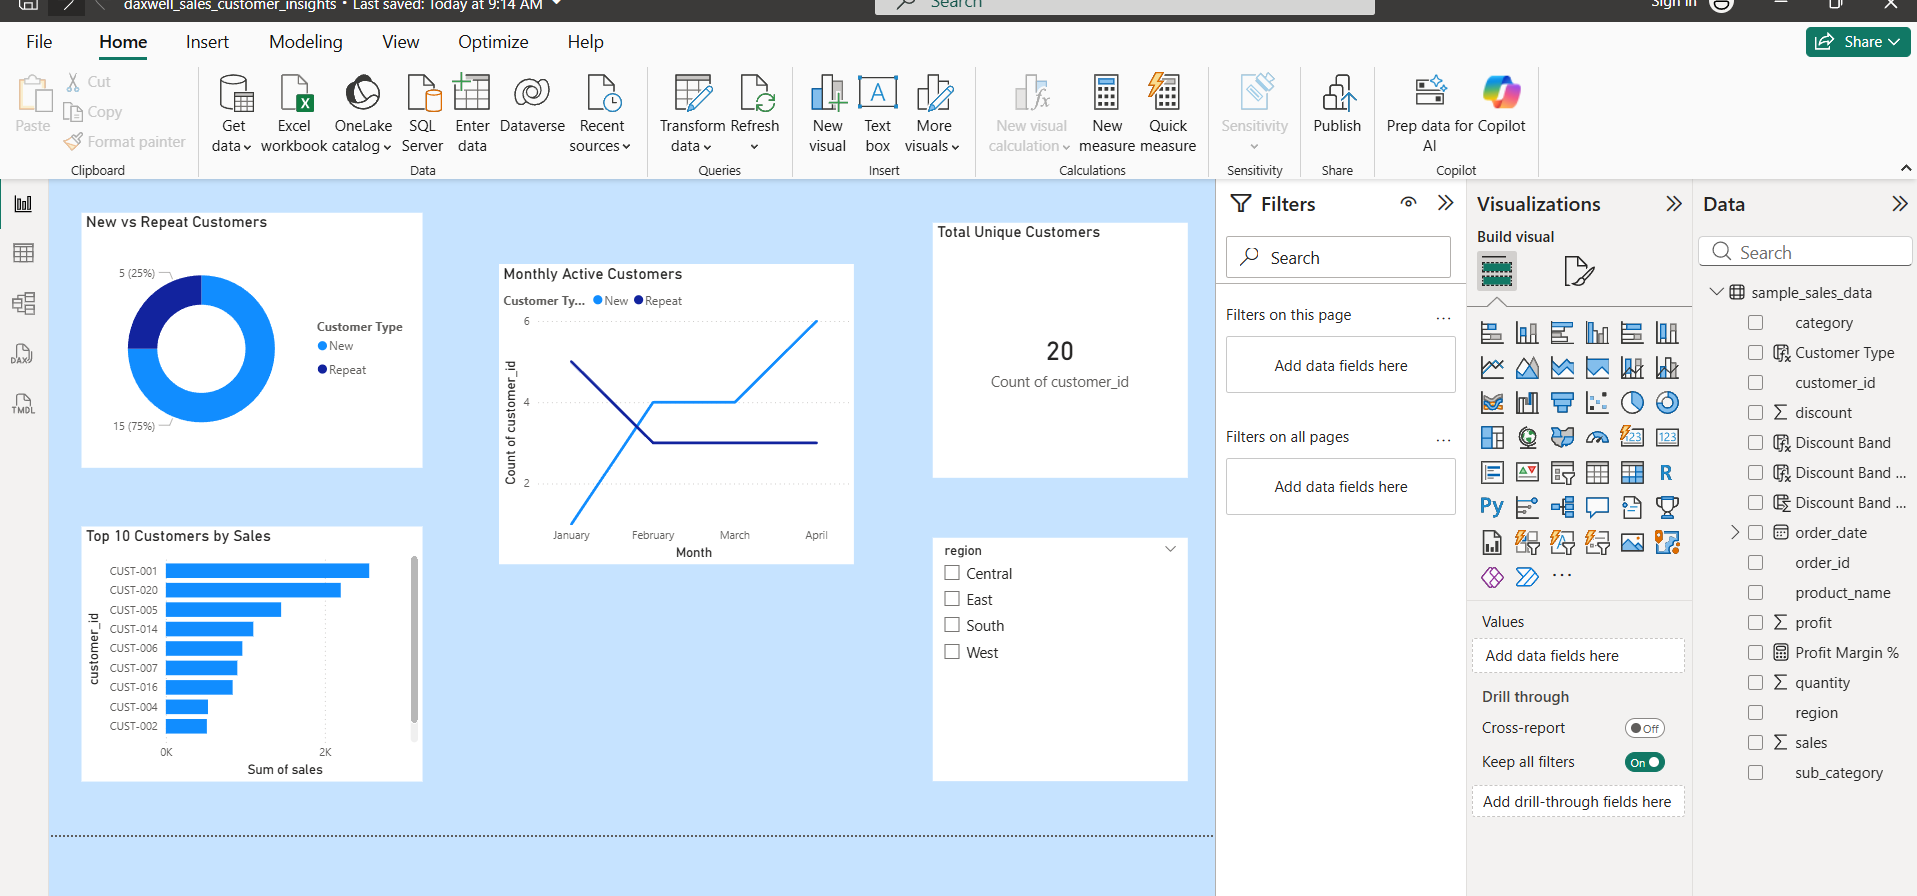

Layout of this report page (visuals, bound fields, positions):
{"tool":"powerbi","page":{"name":"Customer Insights","canvas":[1280,720],"ordinal":2},"visuals":[{"type":"donutChart","title":"New vs Repeat Customers","fields":{"Category":["sample_sales_data.Customer Type"],"Y":["Count(sample_sales_data.customer_id)"]},"box":[35.7,37,374.6,279.9],"z":0},{"type":"clusteredBarChart","title":"Top 10 Customers by Sales","fields":{"Category":["sample_sales_data.customer_id"],"Y":["Sum(sample_sales_data.sales)"]},"box":[35.7,381.5,374.6,279.9],"z":1},{"type":"lineChart","title":"Monthly Active Customers","fields":{"Category":["sample_sales_data.order_date.Variation.Date Hierarchy.Month"],"Y":["Count(sample_sales_data.customer_id)"],"Series":["sample_sales_data.Customer Type"]},"box":[494,93.3,389.7,329.3],"z":2},{"type":"card","title":"Total Unique Customers","fields":{"Values":["Count(sample_sales_data.customer_id)"]},"box":[970.2,48,279.9,279.9],"z":3},{"type":"slicer","fields":{"Values":["sample_sales_data.region"]},"box":[970.2,393.8,279.9,267.6],"z":4}]}

Visuals, with their boxes on the page's 1280x720 design canvas (x1, y1, x2, y2). These are canvas units, not pixel positions in the 1917x896 screenshot, which may show the page scaled, cropped or inside an application window:
"New vs Repeat Customers" donutChart: pyautogui.locateOnScreen(36, 37, 410, 317)
"Top 10 Customers by Sales" clusteredBarChart: pyautogui.locateOnScreen(36, 382, 410, 661)
"Monthly Active Customers" lineChart: pyautogui.locateOnScreen(494, 93, 884, 423)
"Total Unique Customers" card: pyautogui.locateOnScreen(970, 48, 1250, 328)
slicer - sample_sales_data.region: pyautogui.locateOnScreen(970, 394, 1250, 661)
